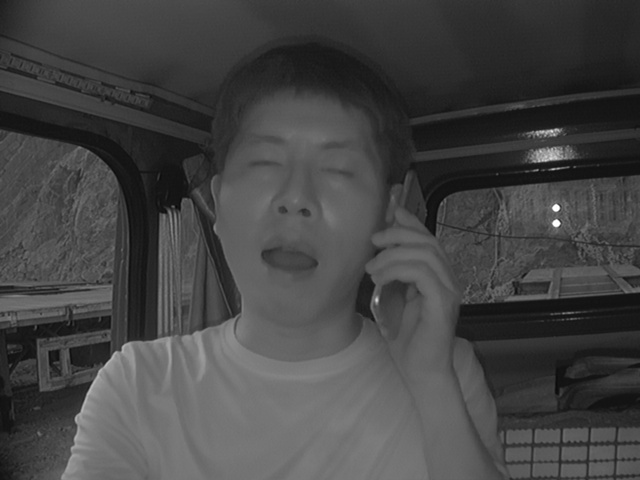hand: (361, 211, 459, 362)
